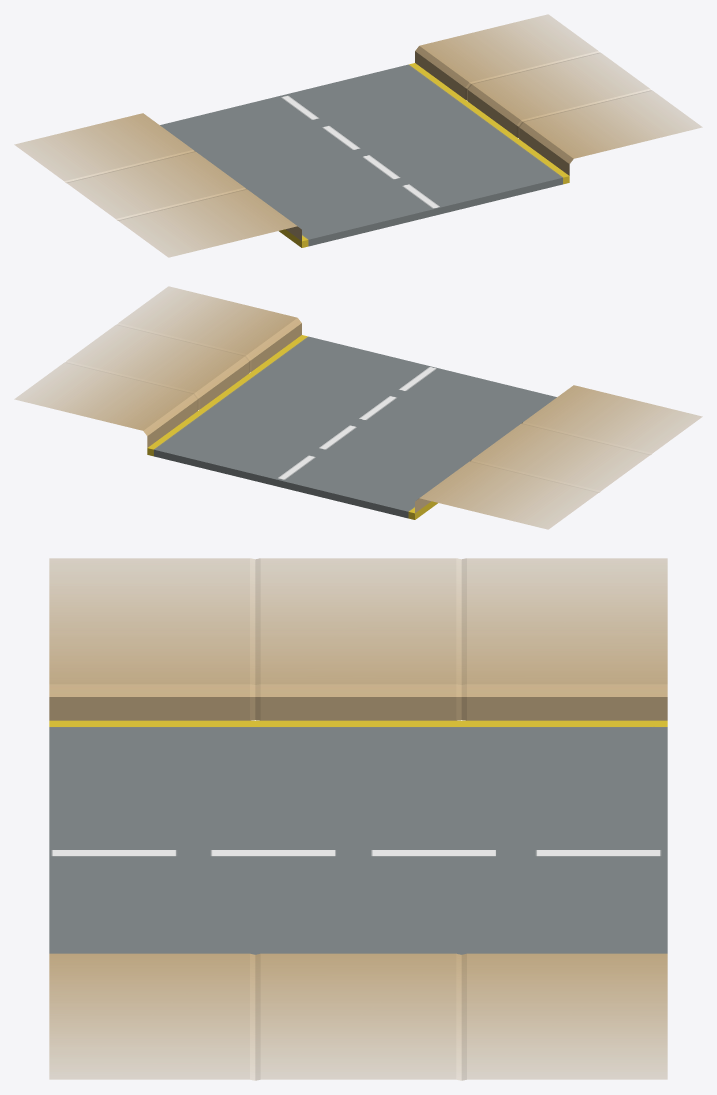
File: Road.fbx
3 views of the same model, one above another, from view 1: azimuth 30°, elevation 25°; view 2: azimuth 150°, elevation 25°; view 3: azimuth 270°, elevation 25° (orthographic). The views are drawn at different scales.
Parts seen in each view (by area): view 1: Road, sideroad.001, sideroad; view 2: Road, sideroad.001, sideroad; view 3: Road, sideroad, sideroad.001.
Part boxes in pixels (x1,y1,x2,y2): Road: (160,63,569,247); sideroad.001: (415,14,702,175); sideroad: (14,113,301,257); Road: (147,335,556,519); sideroad.001: (14,286,301,447); sideroad: (415,385,702,529); Road: (49,720,667,954); sideroad: (49,558,667,720); sideroad.001: (49,953,667,1080).
Size of the model in its own units: 1198 by 49.12 by 600.
